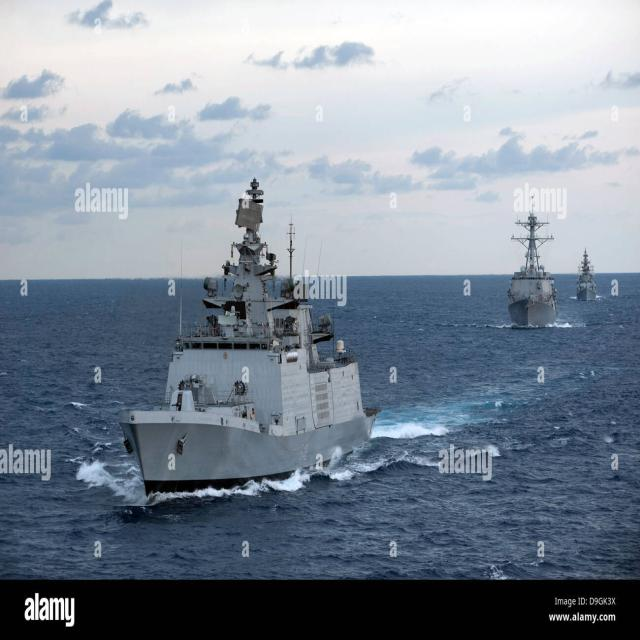Frigate-Shivalik-Class-IND: (118, 175, 381, 499)
